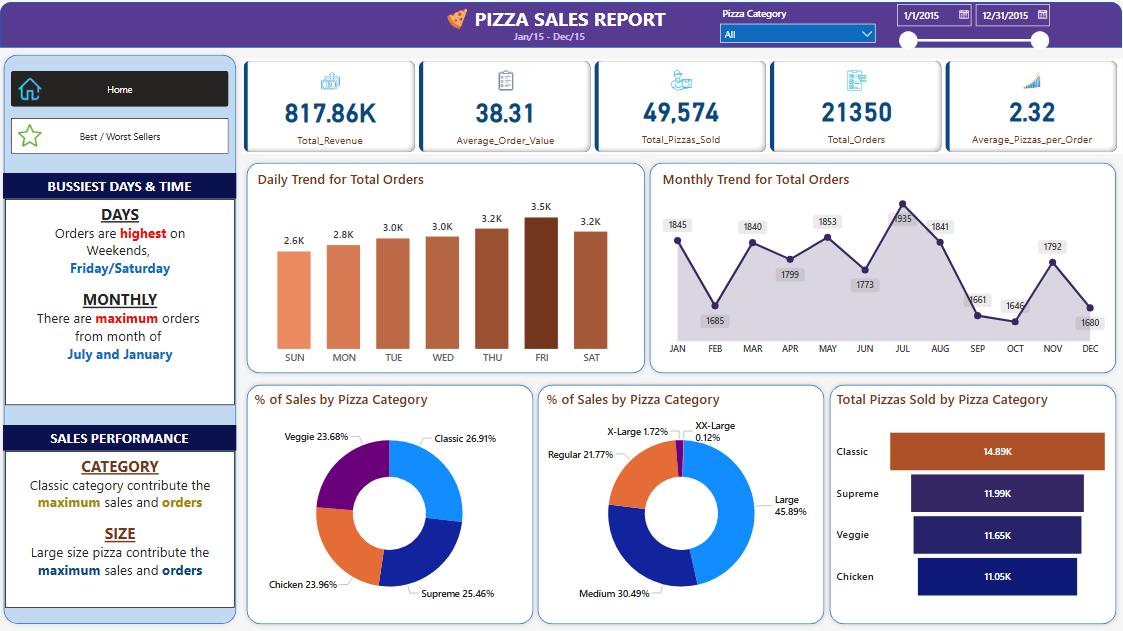

The dashboard page shown, as its layout file describes it:
{"tool":"powerbi","page":{"name":"Home","canvas":[1600,900],"ordinal":0},"visuals":[{"type":"cardVisual","fields":{"Data":["pizza_sales.Total_Revenue","pizza_sales.Average_Order_Value","pizza_sales.Total_Pizzas_Sold","pizza_sales.Total_Orders","pizza_sales.Average_Pizzas_per_Order"]},"box":[349.1,89.7,1233.6,133.2],"z":0},{"type":"shape","box":[9.8,9.8,1572.9,64.5],"z":1000},{"type":"textbox","box":[669.6,9.7,288.1,46.7],"z":2000},{"type":"textbox","box":[724.8,43.5,151.4,33.6],"z":3000},{"type":"image","box":[618.1,14.5,64.4,38.6],"z":4000},{"type":"shape","box":[347.7,227.1,574.8,311.2],"z":5000},{"type":"columnChart","title":"Daily Trend for Total Orders ","fields":{"Category":["pizza_sales.Order_Day"],"Y":["pizza_sales.Total_Orders"]},"box":[365.9,245.3,529.9,281.8],"z":6000},{"type":"shape","box":[912.6,227.1,670.1,311.2],"z":7000},{"type":"areaChart","title":"Monthly Trend for Total Orders","fields":{"Y":["pizza_sales.Total_Orders"],"Category":["pizza_sales.Order_Month"]},"box":[933.6,245.3,630.8,269.2],"z":8000},{"type":"shape","box":[347.7,538.3,417.8,351.9],"z":9000},{"type":"shape","box":[755.6,538.3,417.8,351.9],"z":10000},{"type":"shape","box":[1165,538.3,417.8,351.9],"z":11000},{"type":"donutChart","title":"% of Sales by Pizza Category","fields":{"Category":["pizza_sales.pizza_category"],"Y":["pizza_sales.Total_Revenue"]},"box":[361.7,553.7,388.3,321],"z":12000},{"type":"donutChart","title":"% of Sales by Pizza Category","fields":{"Y":["pizza_sales.Total_Revenue"],"Category":["pizza_sales.pizza_size"]},"box":[771,553.7,388.3,321],"z":13000},{"type":"funnel","title":"Total Pizzas Sold by Pizza Category ","fields":{"Category":["pizza_sales.pizza_category"],"Y":["pizza_sales.Total_Pizzas_Sold"]},"box":[1177.6,553.7,391.1,321],"z":14000},{"type":"shape","box":[7,75.7,342.1,814.5],"z":15000},{"type":"textbox","box":[14,249.1,326.6,36.4],"z":16000},{"type":"textbox","box":[14,602.2,326.6,36.4],"z":17000},{"type":"textbox","box":[16.8,286,322.4,288.8],"z":18000},{"type":"textbox","box":[16.8,639.3,322.4,220.1],"z":19000},{"type":"slicer","fields":{"Values":["pizza_sales.pizza_category"]},"box":[1009.3,11.2,238.3,63.1],"z":20000},{"type":"slicer","fields":{"Values":["pizza_sales.order_date"]},"box":[1254.7,2.8,234.1,77.1],"z":21000},{"type":"pageNavigator","box":[25.2,106.5,305.6,50.5],"z":22000},{"type":"pageNavigator","box":[25.2,172.4,305.6,50.5],"z":23000},{"type":"image","box":[30.8,110.7,42.1,42.1],"z":24000},{"type":"image","box":[28,175.2,47.7,43.5],"z":25000}]}

Visuals, with their boxes in screenshot pixels (x1, y1, x2, y2), scaled from the page's 1600x900 canvas onto the 1123x631 screenshot:
cardVisual - pizza_sales.Total_Revenue x pizza_sales.Average_Order_Value: <bbox>245, 63, 1111, 156</bbox>
shape: <bbox>7, 7, 1111, 52</bbox>
textbox: <bbox>470, 7, 672, 40</bbox>
textbox: <bbox>509, 30, 615, 54</bbox>
image: <bbox>434, 10, 479, 37</bbox>
shape: <bbox>244, 159, 647, 377</bbox>
"Daily Trend for Total Orders " columnChart: <bbox>257, 172, 629, 370</bbox>
shape: <bbox>641, 159, 1111, 377</bbox>
"Monthly Trend for Total Orders" areaChart: <bbox>655, 172, 1098, 361</bbox>
shape: <bbox>244, 377, 537, 624</bbox>
shape: <bbox>530, 377, 824, 624</bbox>
shape: <bbox>818, 377, 1111, 624</bbox>
"% of Sales by Pizza Category" donutChart: <bbox>254, 388, 526, 613</bbox>
"% of Sales by Pizza Category" donutChart: <bbox>541, 388, 814, 613</bbox>
"Total Pizzas Sold by Pizza Category " funnel: <bbox>827, 388, 1101, 613</bbox>
shape: <bbox>5, 53, 245, 624</bbox>
textbox: <bbox>10, 175, 239, 200</bbox>
textbox: <bbox>10, 422, 239, 448</bbox>
textbox: <bbox>12, 201, 238, 403</bbox>
textbox: <bbox>12, 448, 238, 603</bbox>
slicer - pizza_sales.pizza_category: <bbox>708, 8, 876, 52</bbox>
slicer - pizza_sales.order_date: <bbox>881, 2, 1045, 56</bbox>
pageNavigator: <bbox>18, 75, 232, 110</bbox>
pageNavigator: <bbox>18, 121, 232, 156</bbox>
image: <bbox>22, 78, 51, 107</bbox>
image: <bbox>20, 123, 53, 153</bbox>
